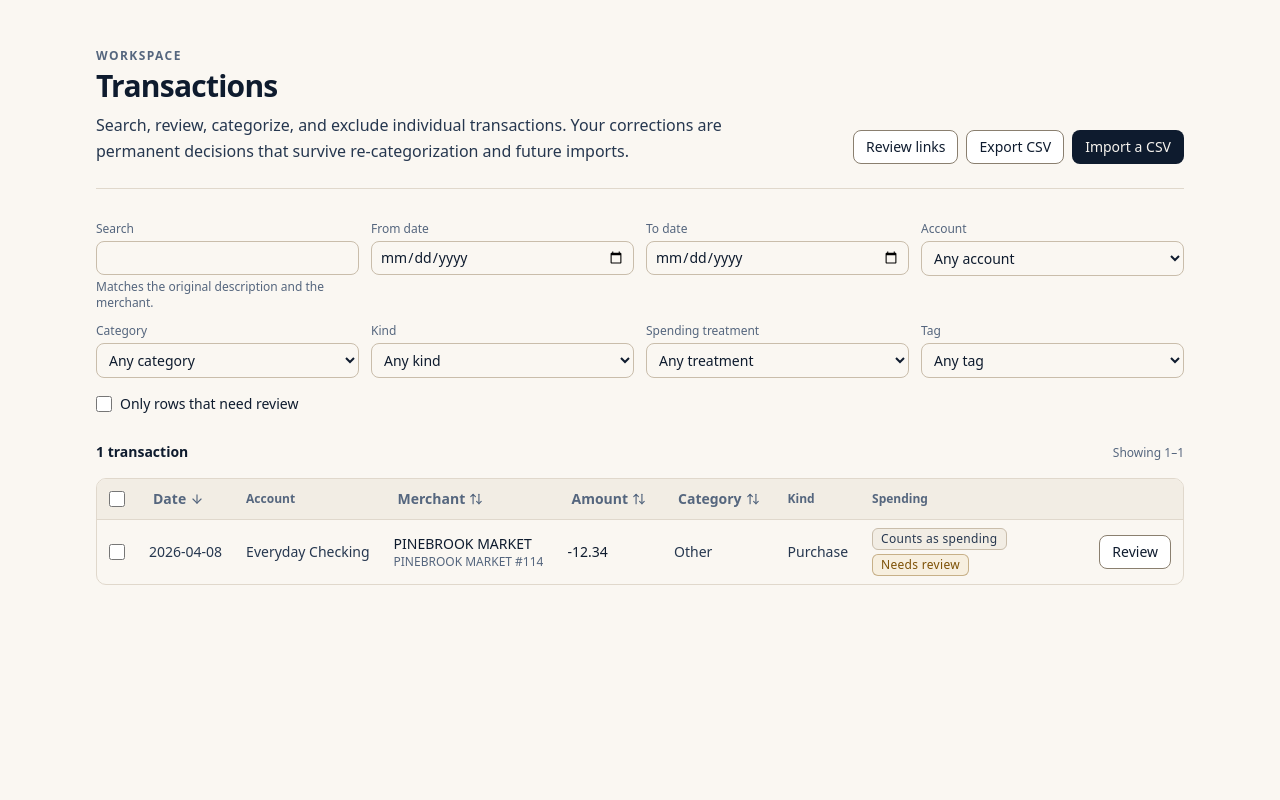
Test case: editing a transaction › shows the source as facts, with no control to change them
Expected: the heading "1 transaction" is shown, [96, 442, 188, 462]
Click the button "Review" at [1135, 552], box [1099, 535, 1171, 569]
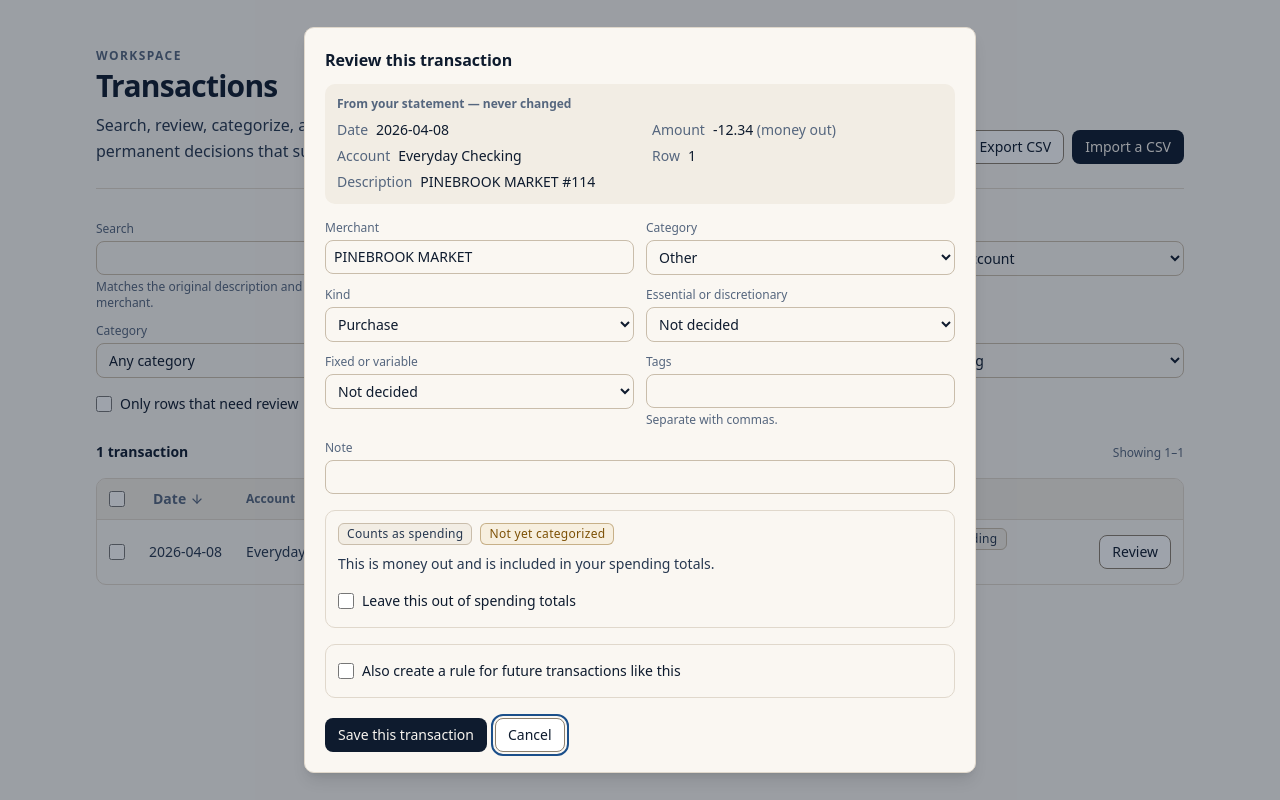
Expected: the heading "From your statement — never changed" is shown, [337, 95, 572, 112]
Expected: the text "PINEBROOK MARKET #114" is shown, [420, 172, 595, 192]
